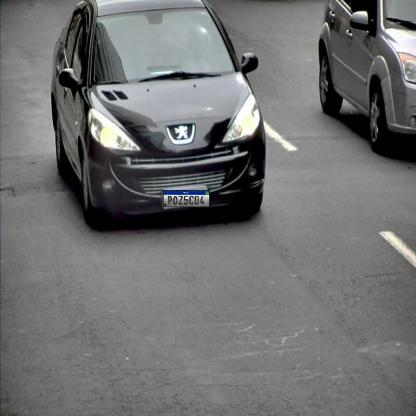PlacaM: (163, 190, 210, 207)
